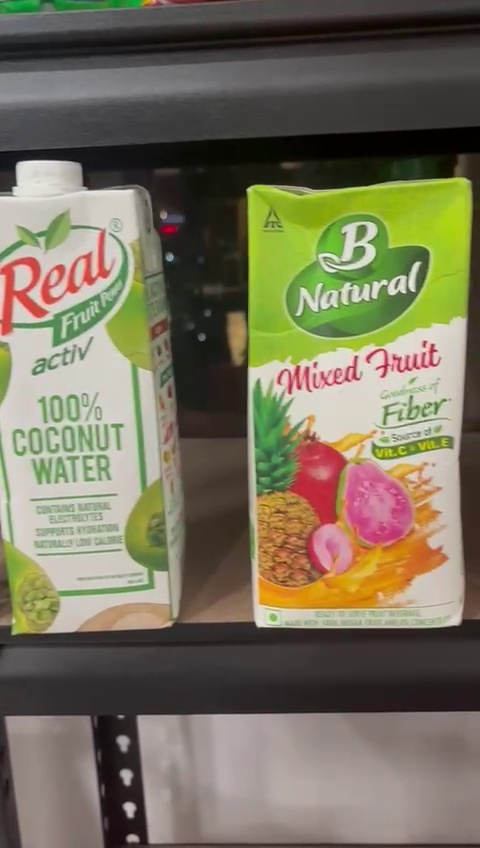Coconut water: (0, 164, 181, 636)
Mixed Fruit: (243, 182, 468, 620)
